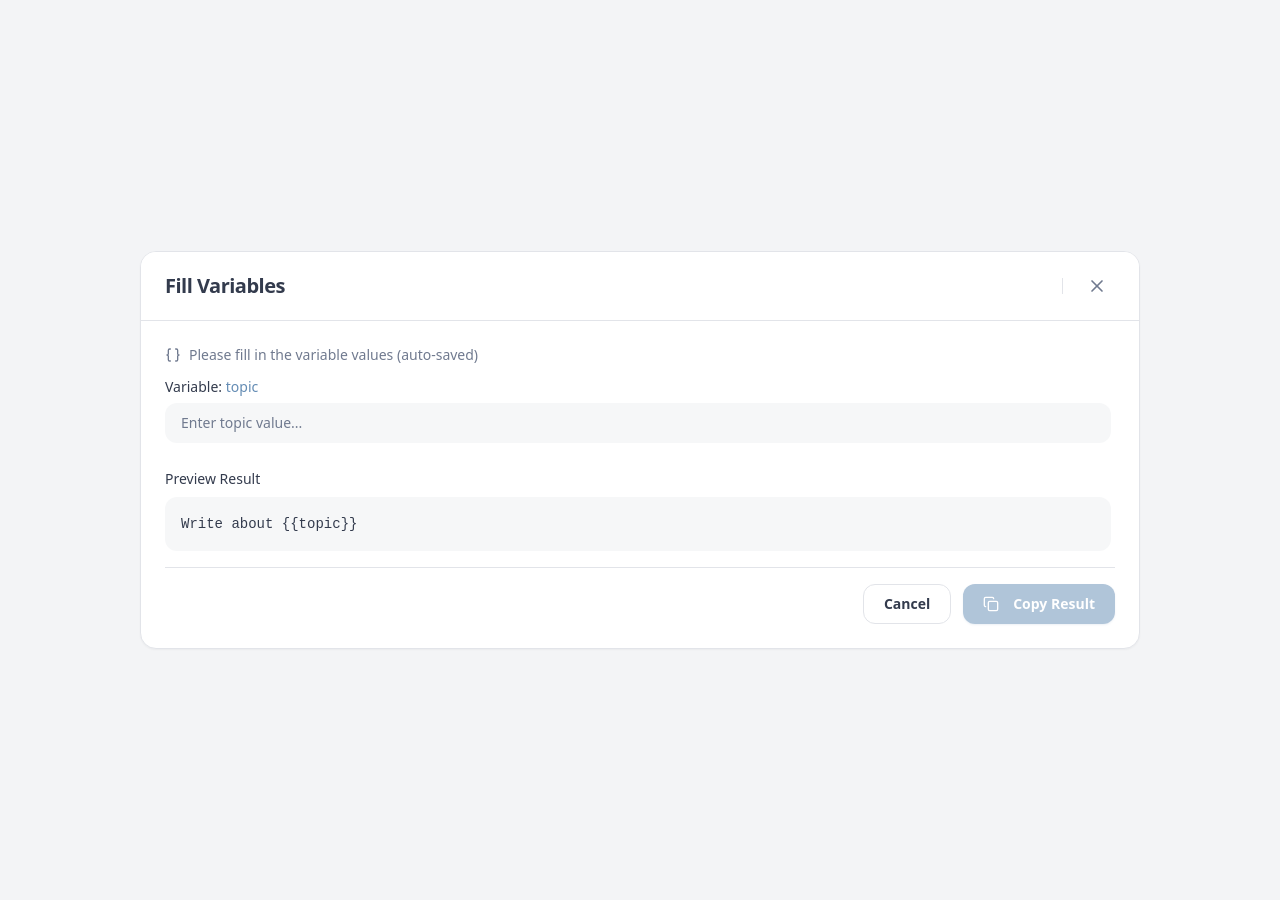
VariableInputModal › clears the copied-state timer when unmounted after copy
The image size is (1280, 900).
Type "cleanup" into the text box with placeholder "Enter topic value..." at (638, 423), box [165, 403, 1111, 443]
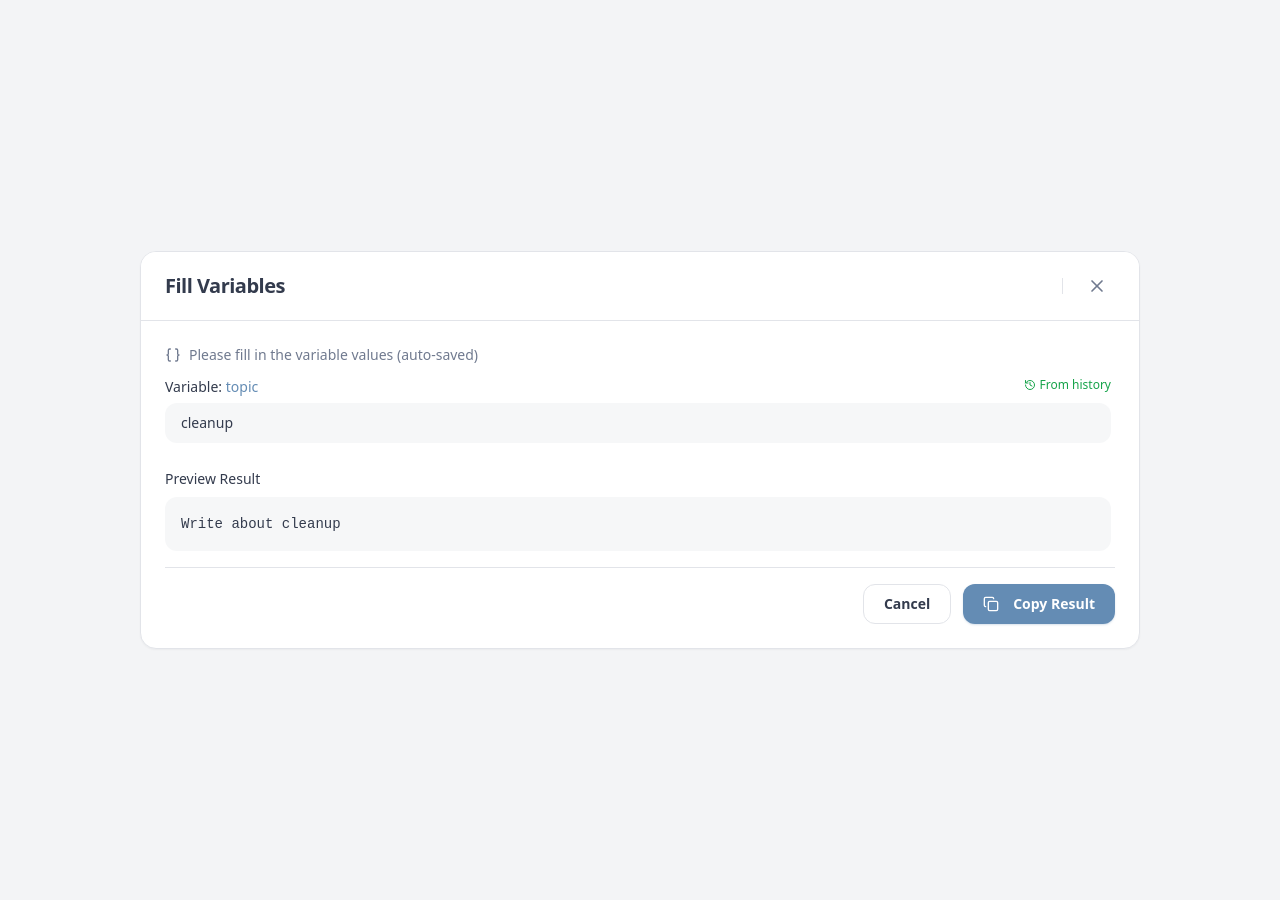
Click the button "Copy Result" at (1039, 604), box [963, 584, 1115, 624]
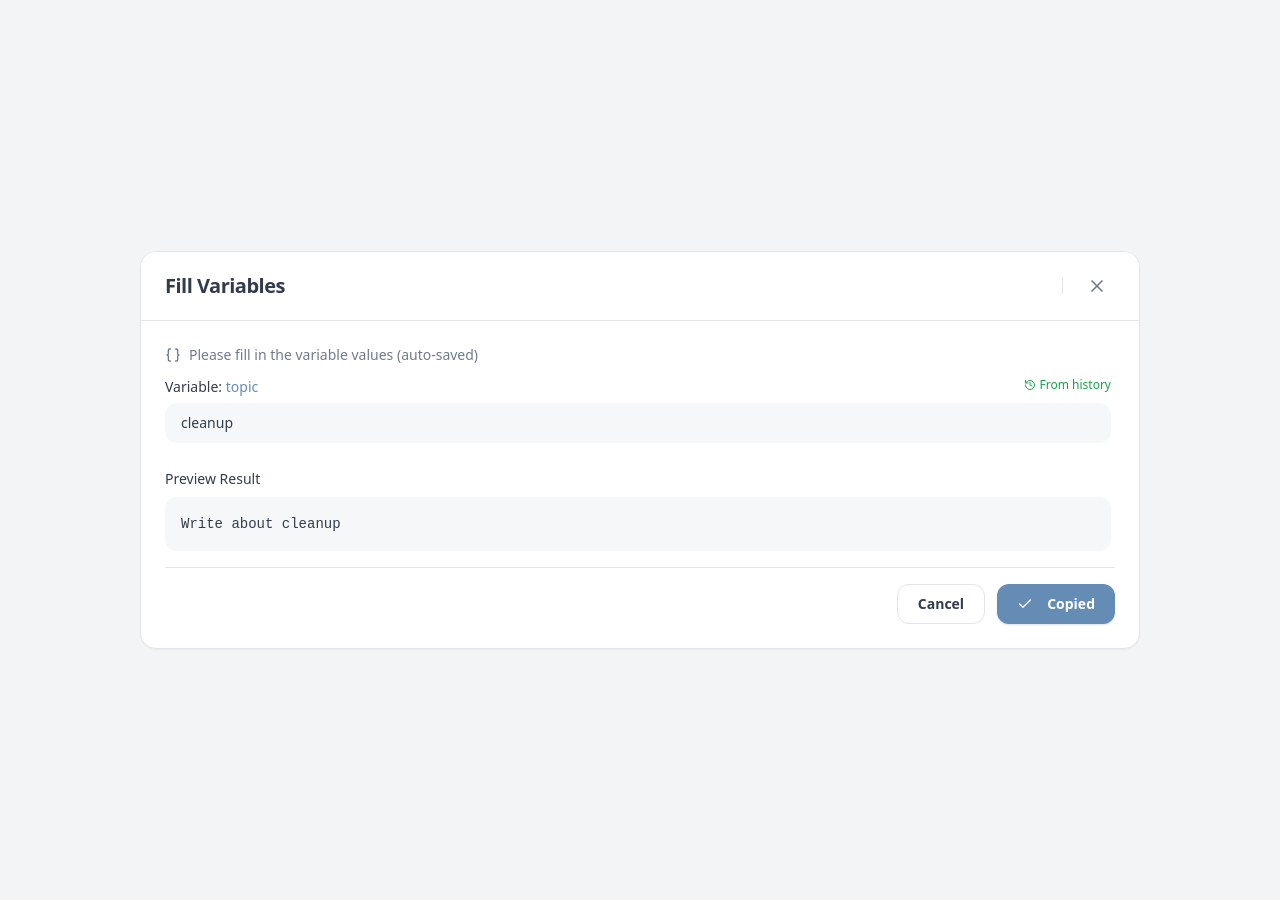
Now the button "Copied" is shown, box [997, 584, 1115, 624]
